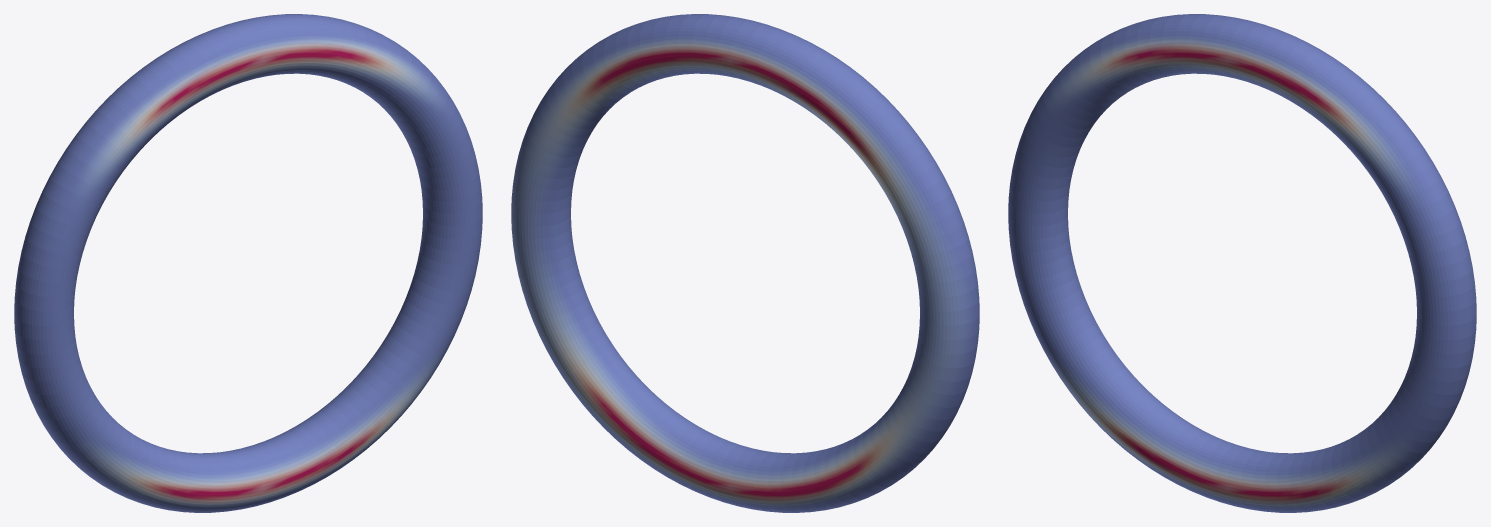
3 views of the same model, side by side, from view 1: azimuth 30°, elevation 25°; view 2: azimuth 150°, elevation 25°; view 3: azimuth 330°, elevation 25° (orthographic).
Parts seen in each view (by area): view 1: world; view 2: world; view 3: world.
Part boxes in pixels (left/top/right/bottom): world: left=14, top=14, right=482, bottom=512; world: left=511, top=14, right=979, bottom=512; world: left=1008, top=14, right=1476, bottom=512.
Size of the model in its own units: 22.53 by 22.53 by 2.53.
